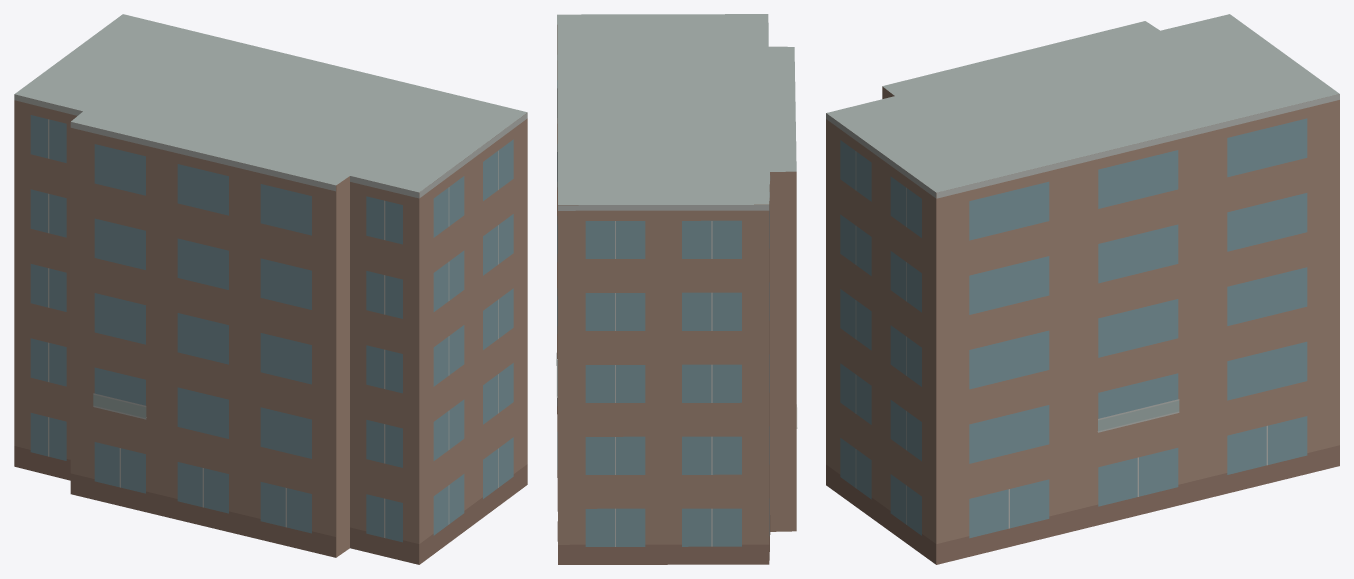
The model's file is survey-upis-33017350.glb.
3 views of the same model, side by side, from view 1: azimuth 30°, elevation 25°; view 2: azimuth 150°, elevation 25°; view 3: azimuth 270°, elevation 25° (orthographic). The views are drawn at different scales.
Visible parts, largest first — view 1: survey-upis-33017350.tmp; view 2: survey-upis-33017350.tmp; view 3: survey-upis-33017350.tmp.
Boxes of the visible parts, x1,y1,x2,y2 form: survey-upis-33017350.tmp: [14, 14, 527, 564]; survey-upis-33017350.tmp: [556, 14, 797, 564]; survey-upis-33017350.tmp: [826, 14, 1339, 564].
Size of the model in its own units: 15.72 by 15.25 by 19.09.
